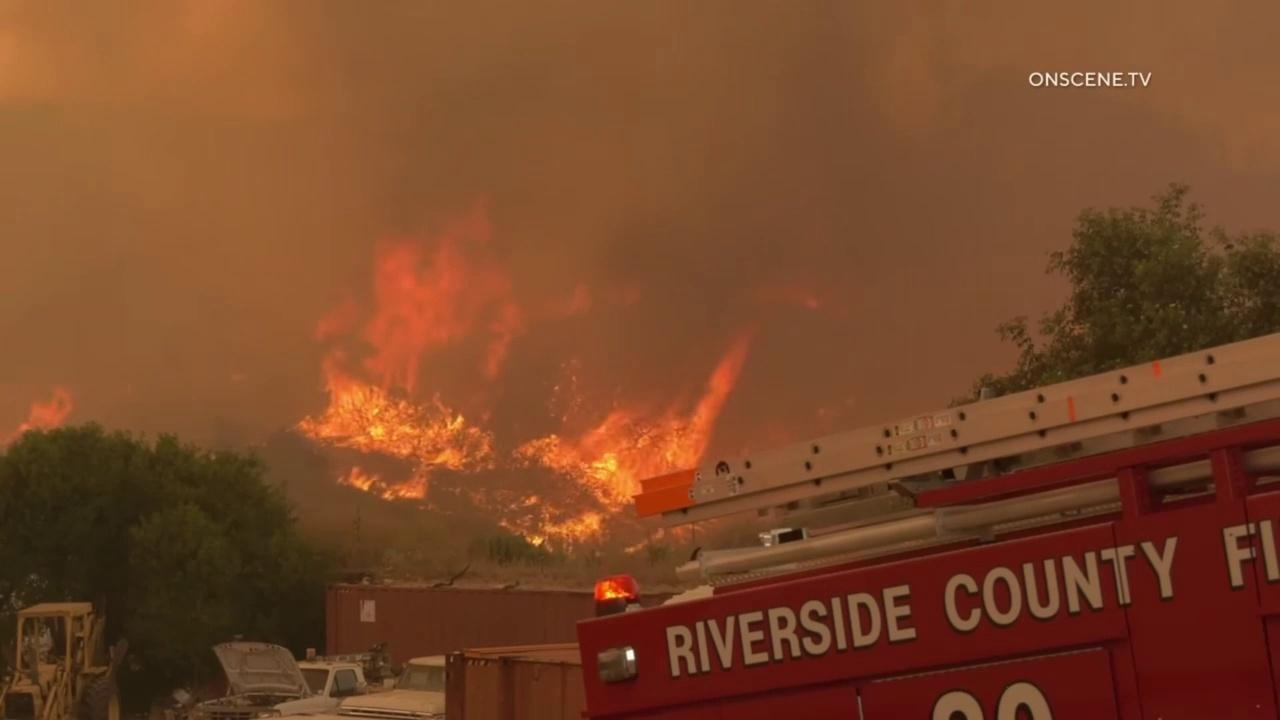fire: (293, 186, 762, 556), (11, 380, 75, 442)
smoke: (0, 0, 1280, 448)
